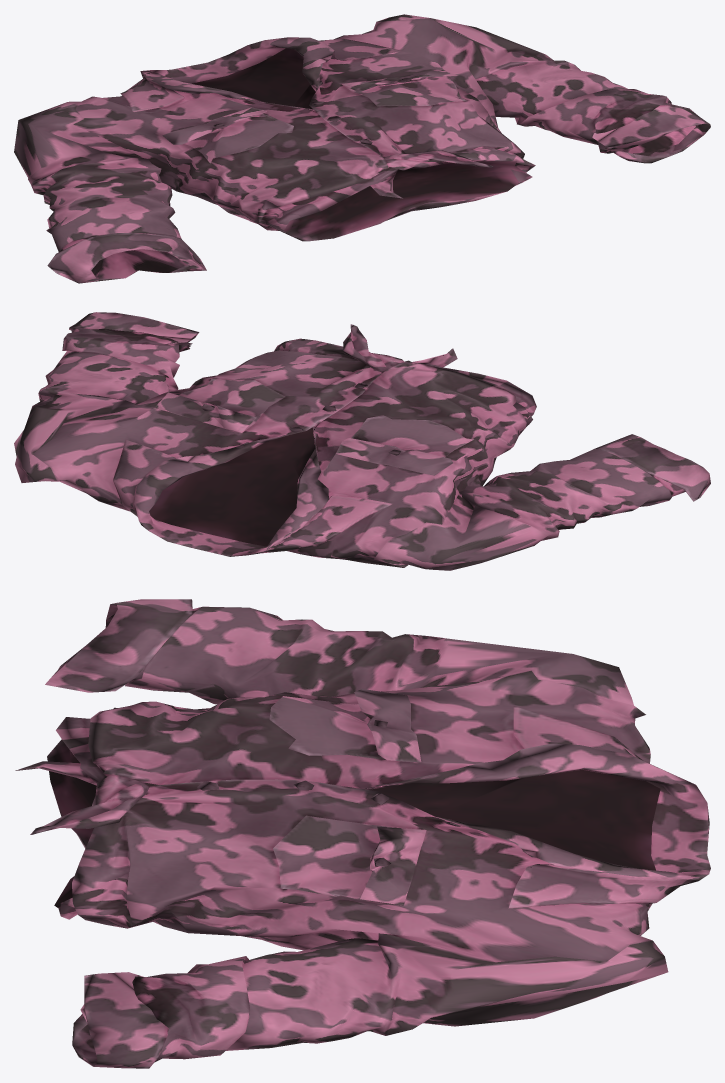
The model's file is TiedFlannel_Ground.fbx.
The picture shows the model from 3 angles, top to bottom: view 1: azimuth 30°, elevation 25°; view 2: azimuth 150°, elevation 25°; view 3: azimuth 270°, elevation 25°; orthographic projection. The views are drawn at different scales.
Visible parts, largest first — view 1: 24_shirt_0.1_0_0; view 2: 24_shirt_0.1_0_0; view 3: 24_shirt_0.1_0_0.
Part boxes in pixels (<box>): 24_shirt_0.1_0_0: <box>14,14,710,283</box>; 24_shirt_0.1_0_0: <box>14,312,710,570</box>; 24_shirt_0.1_0_0: <box>15,599,710,1068</box>.
Size of the model in its own units: 0.3479 by 0.0271 by 0.218.
